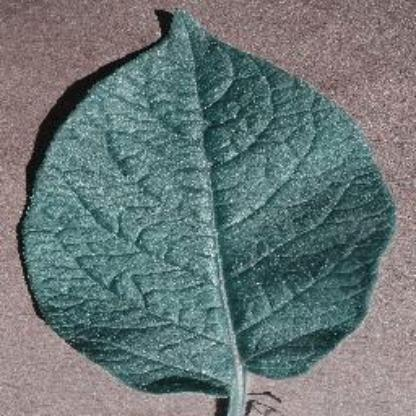Healthy-plant: (22, 8, 404, 416)
